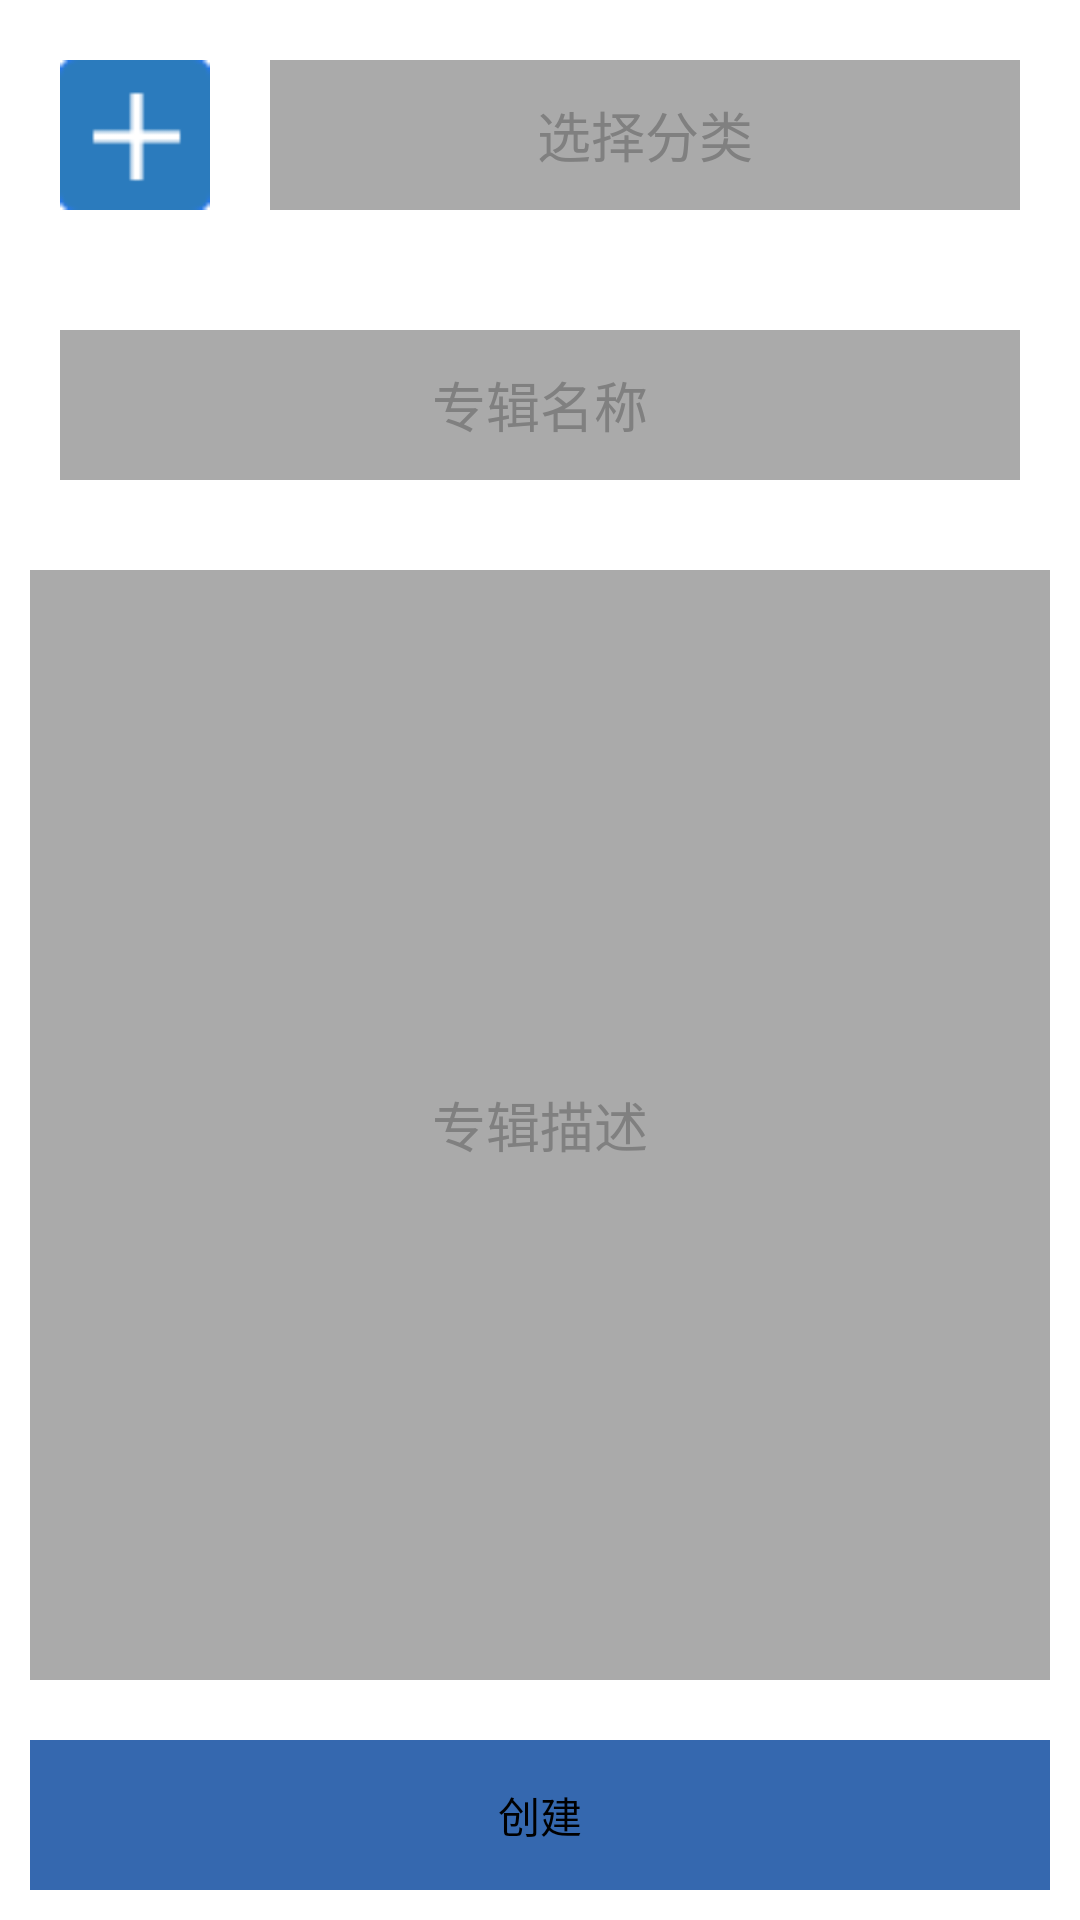

Named icons in this screenshot (1080px×1920px) and their centers, (x,y):
fans add: (135,135)
